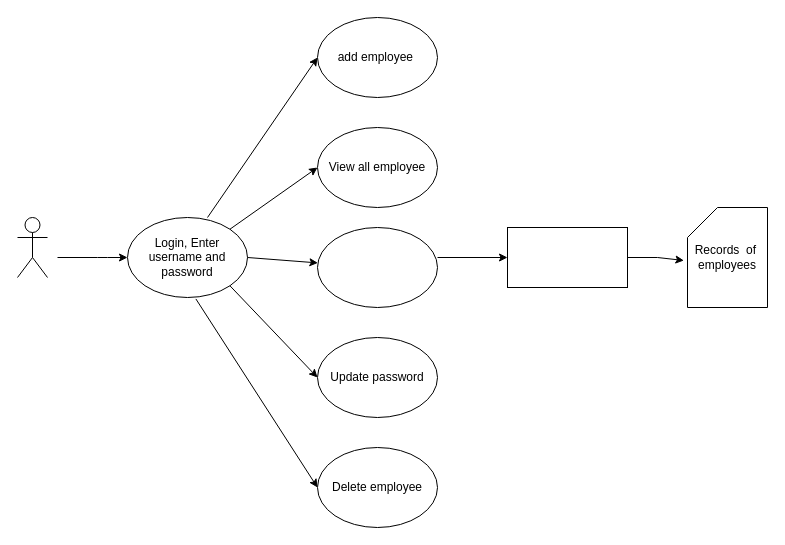
The diagram is 785 pixels wide and 545 high, and some of its shapes have lost their labels. The centre of each missing label's shape, as x and y in pixels:
"Employee details" belongs at point 567,257.
"Search employee" belongs at point 377,267.
"User" belongs at point 32,247.
